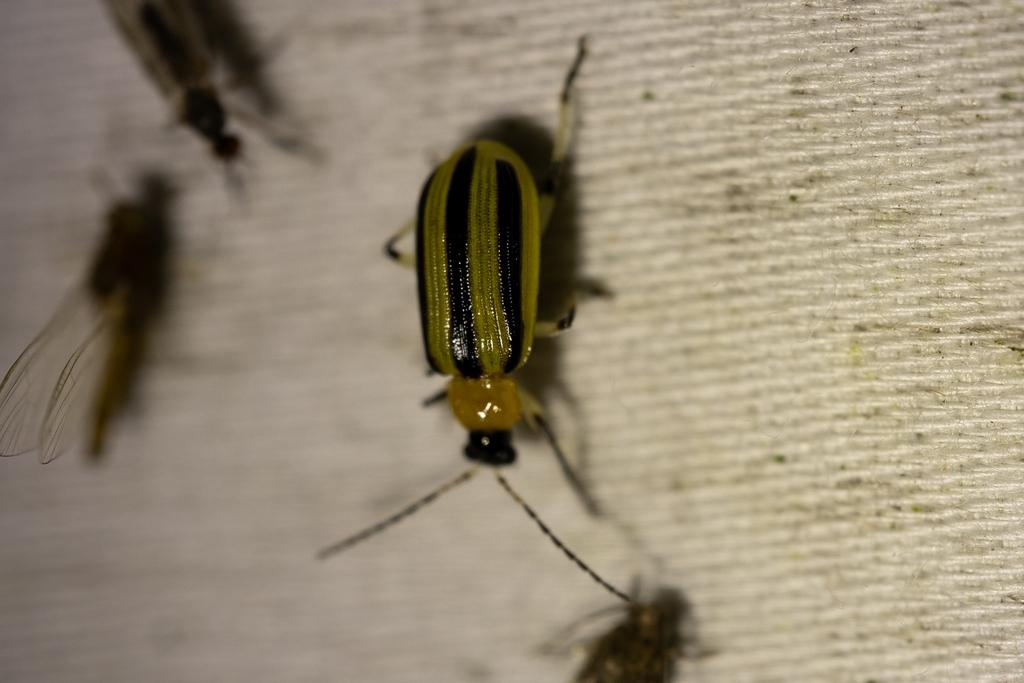potato_beetle: (209, 0, 731, 683)
